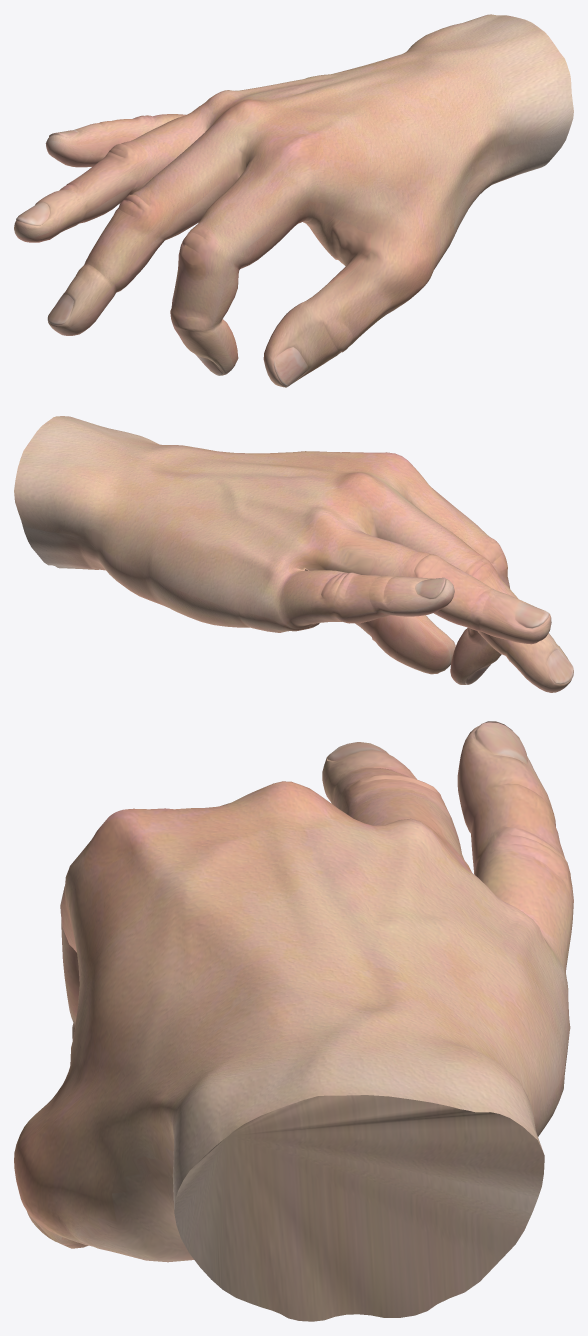
Rendered from hand_10.obj.
3 renders of one model, top to bottom at view 1: azimuth 30°, elevation 25°; view 2: azimuth 150°, elevation 25°; view 3: azimuth 270°, elevation 25°, orthographic. The views are drawn at different scales.
Visible parts, largest first — view 1: Figure_2; view 2: Figure_2; view 3: Figure_2.
Part boxes in pixels (x1=…): Figure_2: x1=14, y1=14, x2=573, y2=387; Figure_2: x1=14, y1=416, x2=573, y2=692; Figure_2: x1=14, y1=721, x2=573, y2=1321.
Size of the model in its own units: 0.8568 by 0.3757 by 0.4086.
2 materials, 2 textured.
